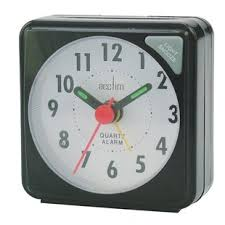alarm_clock: (8, 13, 214, 213)
